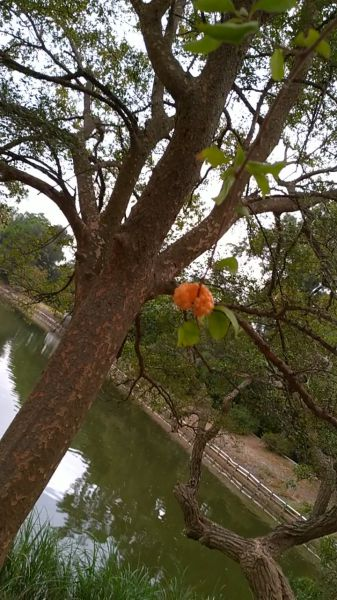eggs: (169, 278, 220, 318)
